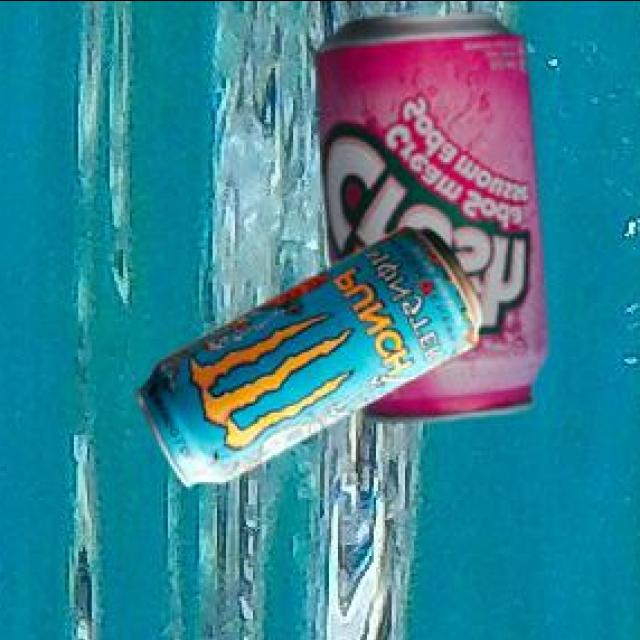logam: (312, 8, 545, 420), (133, 223, 478, 482)
